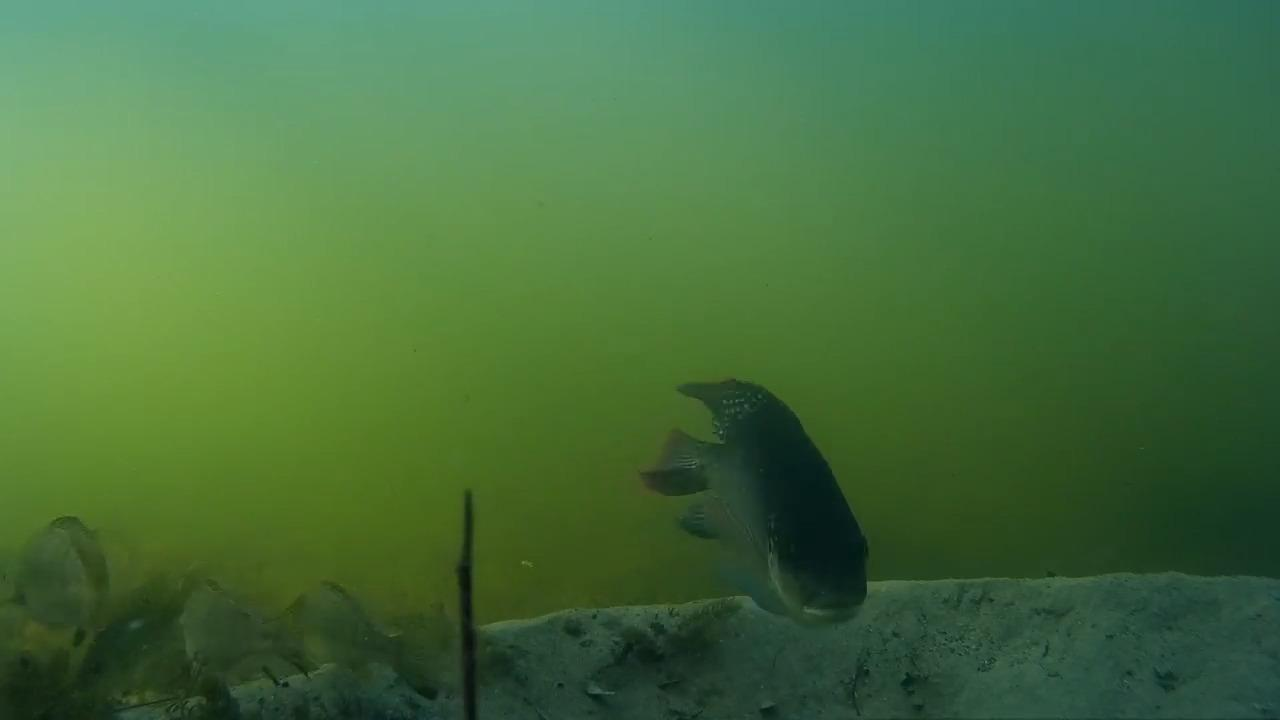Tilapia: (644, 376, 884, 634), (260, 570, 427, 698), (7, 474, 132, 624), (49, 602, 211, 706)
